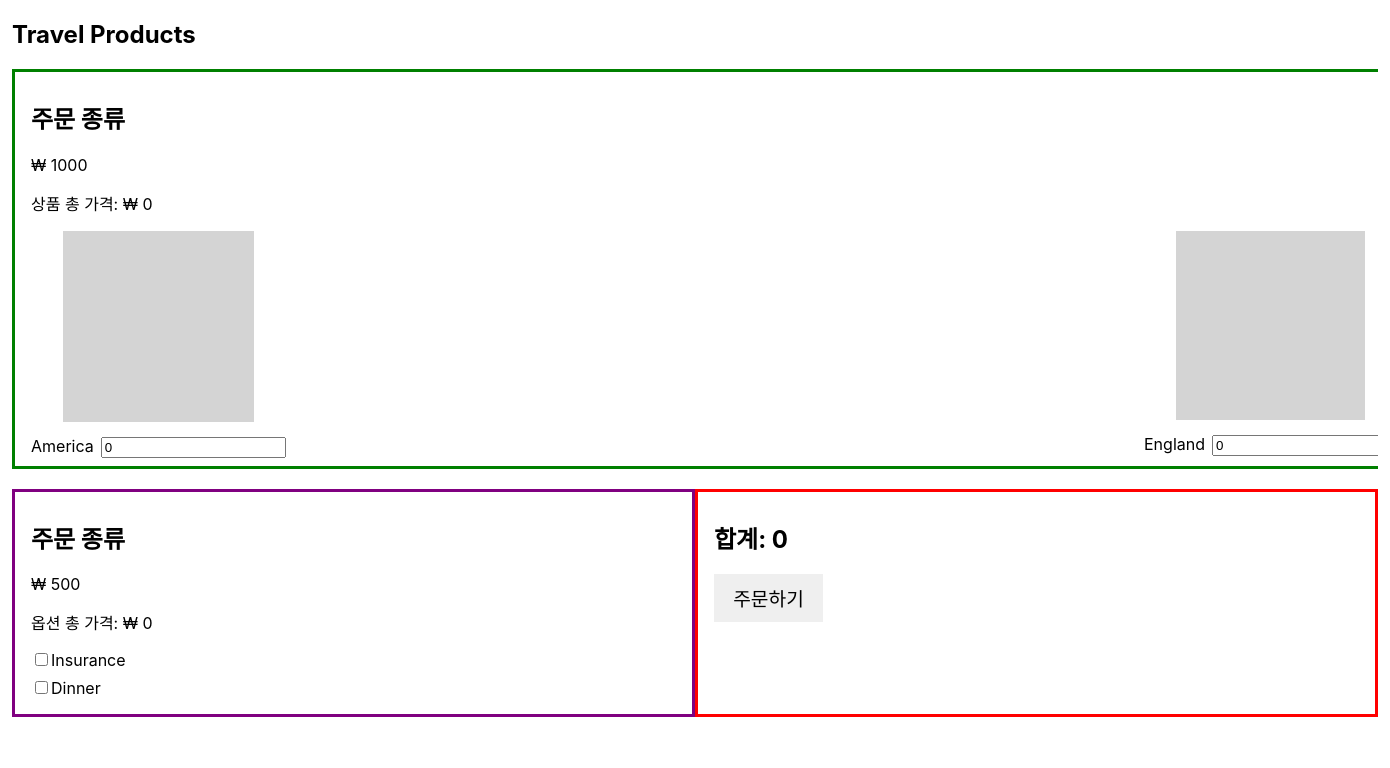
Scenario: total price of goods and options › Updating total price when removing option and product
Click the checkbox labelled "Insurance" at (42, 660), box [35, 654, 48, 666]
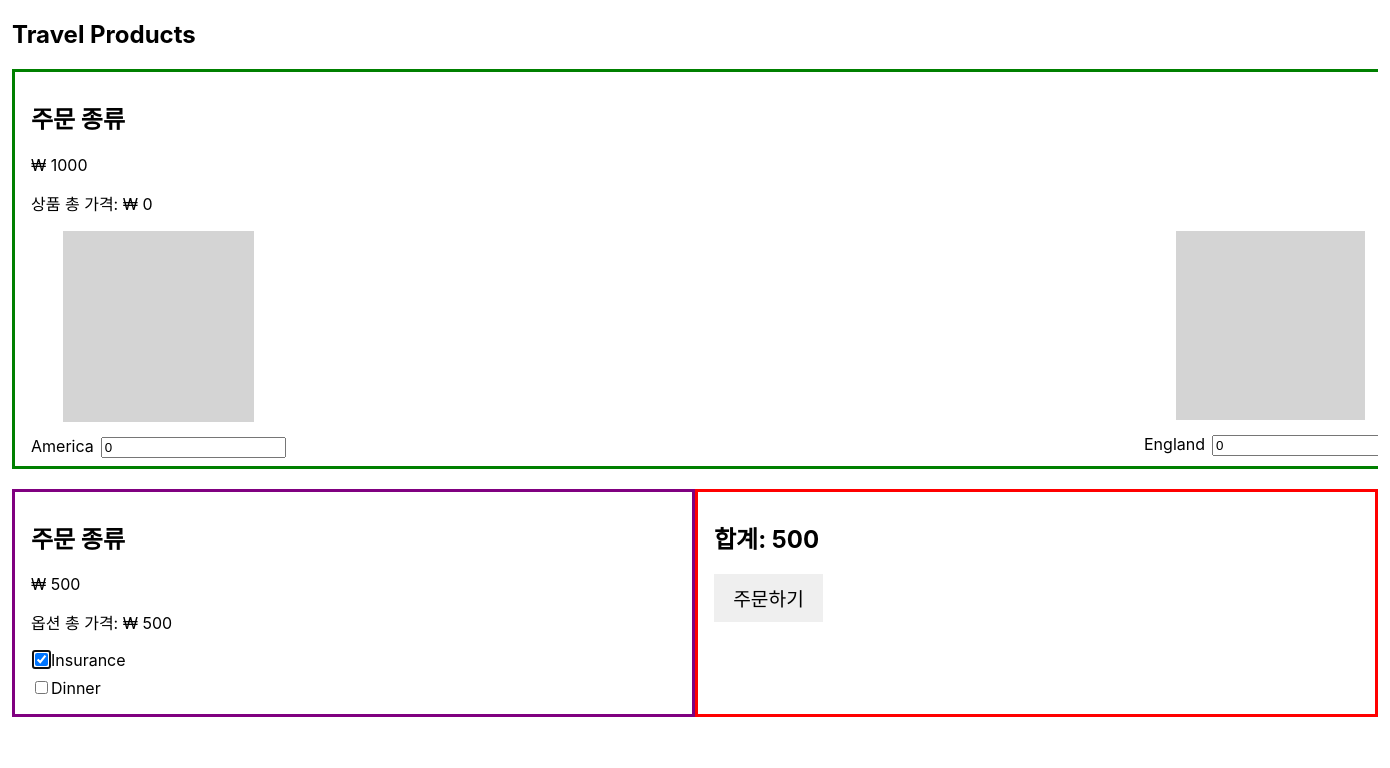
Replace the text in the number field labelled "America" with "3" at (193, 447), box [101, 437, 286, 458]
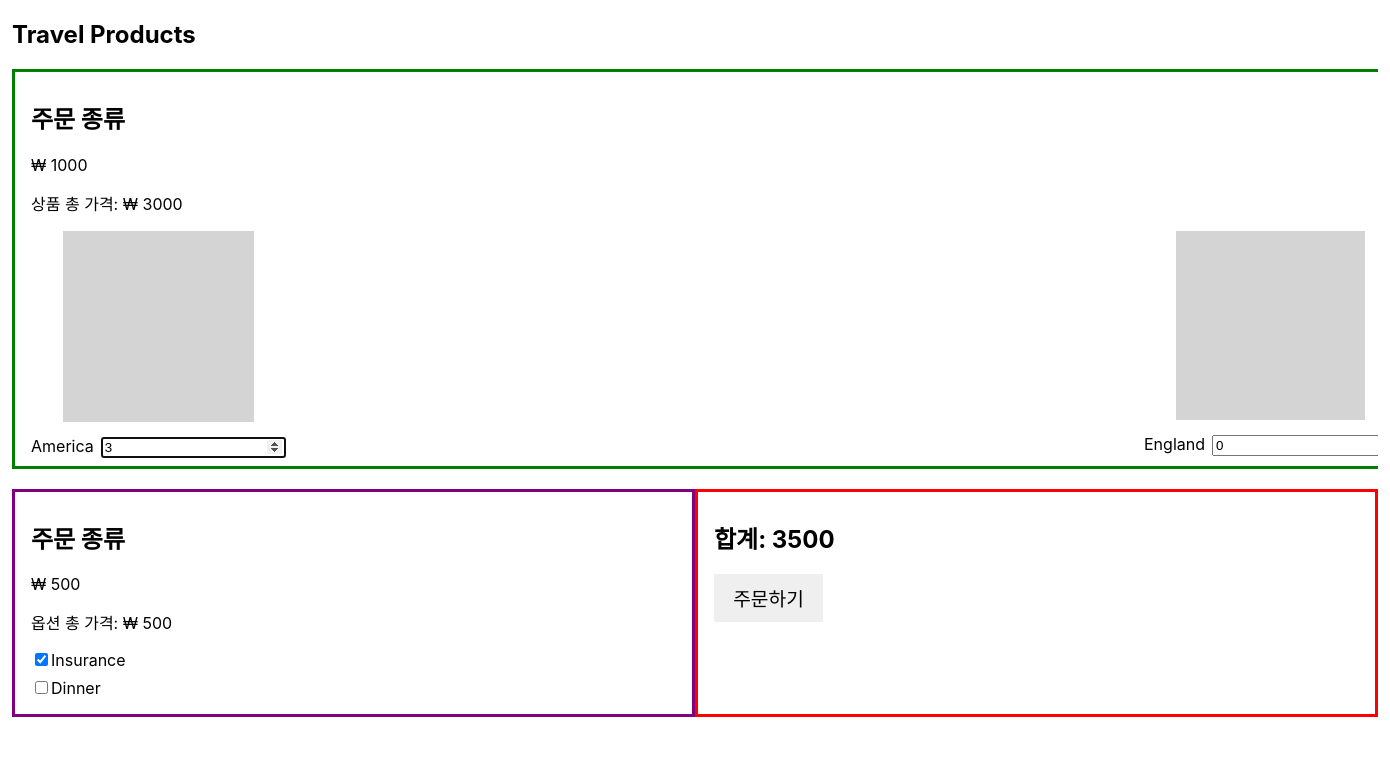
Replace the text in the number field labelled "America" with "1" at (193, 447), box [101, 437, 286, 458]
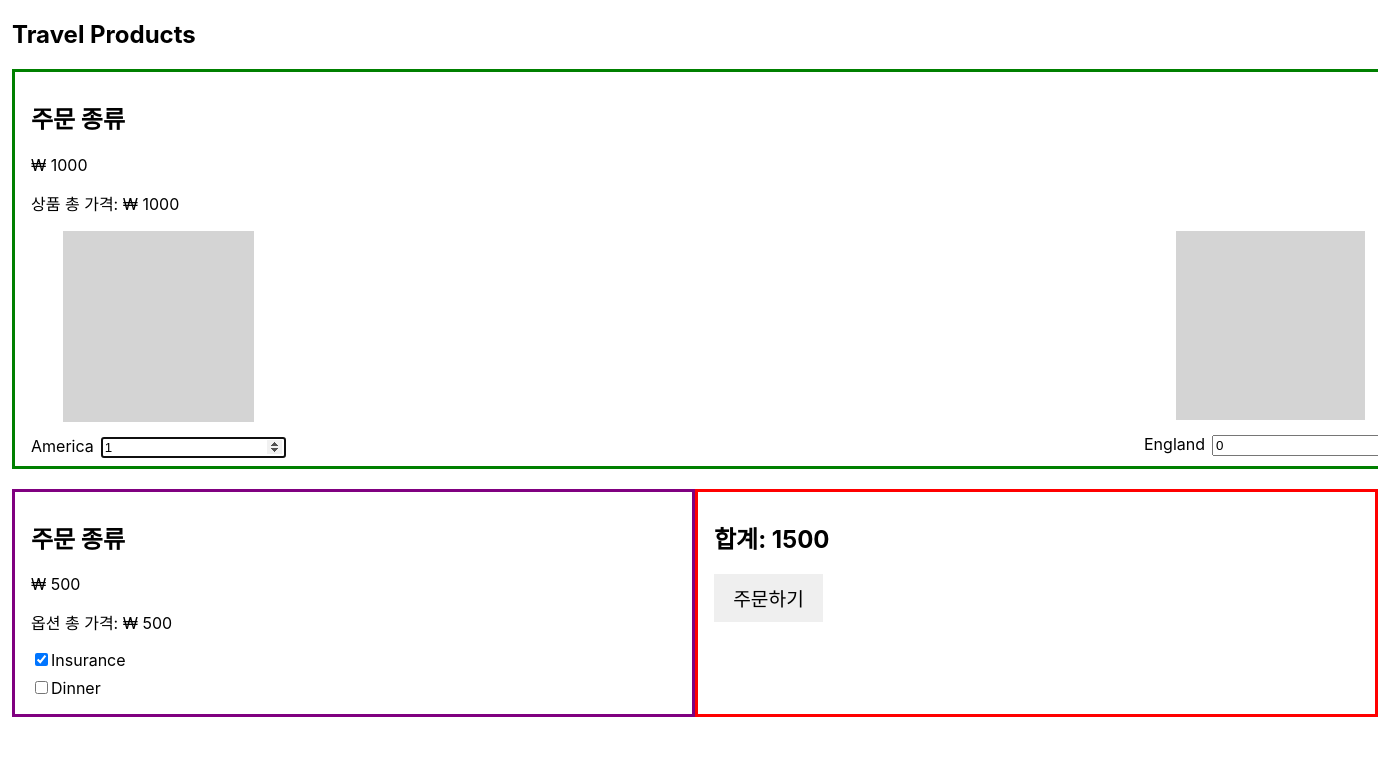
expect the heading "합계: 1500" is shown: met, box [714, 525, 830, 554]
